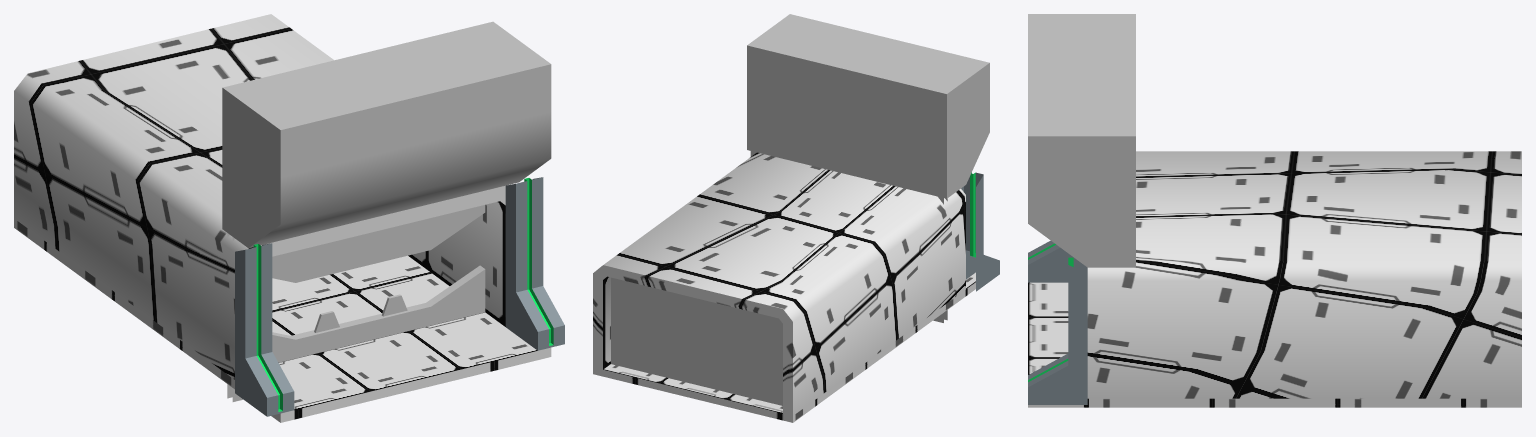
The model's file is BackGround.fbx.
3 views of the same model, side by side, from view 1: azimuth 30°, elevation 25°; view 2: azimuth 150°, elevation 25°; view 3: azimuth 270°, elevation 25° (orthographic). The views are drawn at different scales.
Parts seen in each view (by area): view 1: BackRoomBig, RigthPiller, LeftPiller; view 2: BackRoomBig, LeftPiller; view 3: BackRoomBig, RigthPiller, LeftPiller.
Part boxes in pixels (box(x1,y1,x2,y2)): BackRoomBig: box(14, 14, 551, 422); RigthPiller: box(505, 177, 564, 350); LeftPiller: box(235, 243, 294, 416); BackRoomBig: box(593, 14, 989, 422); LeftPiller: box(961, 172, 999, 291); BackRoomBig: box(1028, 14, 1521, 407); RigthPiller: box(1028, 253, 1087, 404); LeftPiller: box(1028, 240, 1068, 282).
Size of the model in its own units: 6.6 by 6.6 by 10.23.
